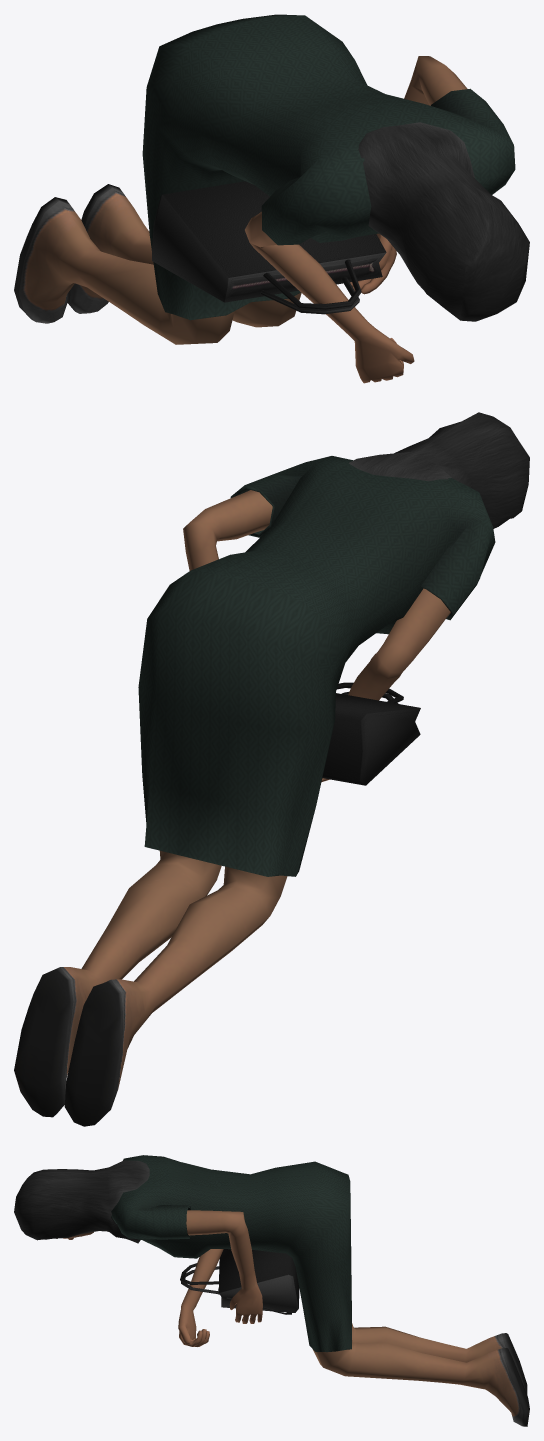
Rendered from FemaleVisitorSit.obj.
The picture shows the model from 3 angles, top to bottom: view 1: azimuth 30°, elevation 25°; view 2: azimuth 150°, elevation 25°; view 3: azimuth 270°, elevation 25°; orthographic projection. The views are drawn at different scales.
Parts seen in each view (by area): view 1: FemaleVisitor.002; view 2: FemaleVisitor.002; view 3: FemaleVisitor.002.
Part boxes in pixels (box(x1,y1,x2,y2)): FemaleVisitor.002: box(14, 14, 529, 383); FemaleVisitor.002: box(14, 412, 529, 1126); FemaleVisitor.002: box(14, 1155, 529, 1426).
Size of the model in its own units: 0.3836 by 0.6633 by 1.24.
Materials: 2 (2 with a texture image).
